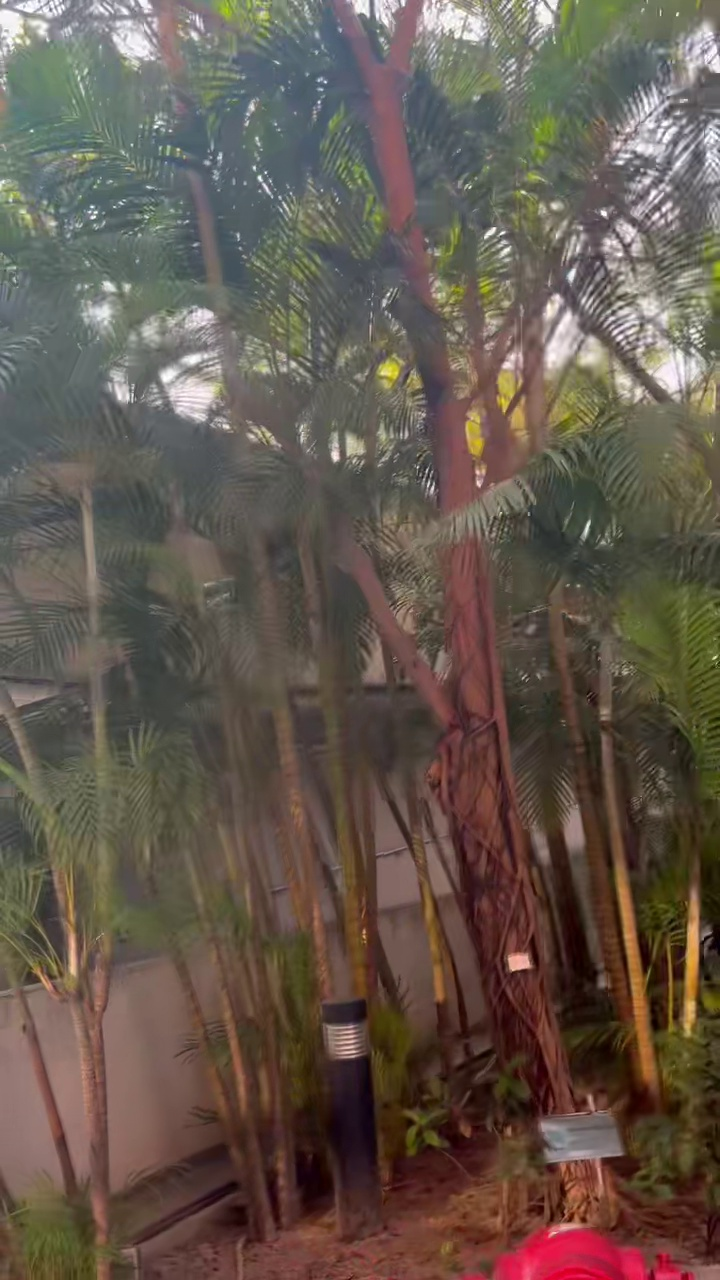Ficus benjamina: (332, 0, 572, 1113)
